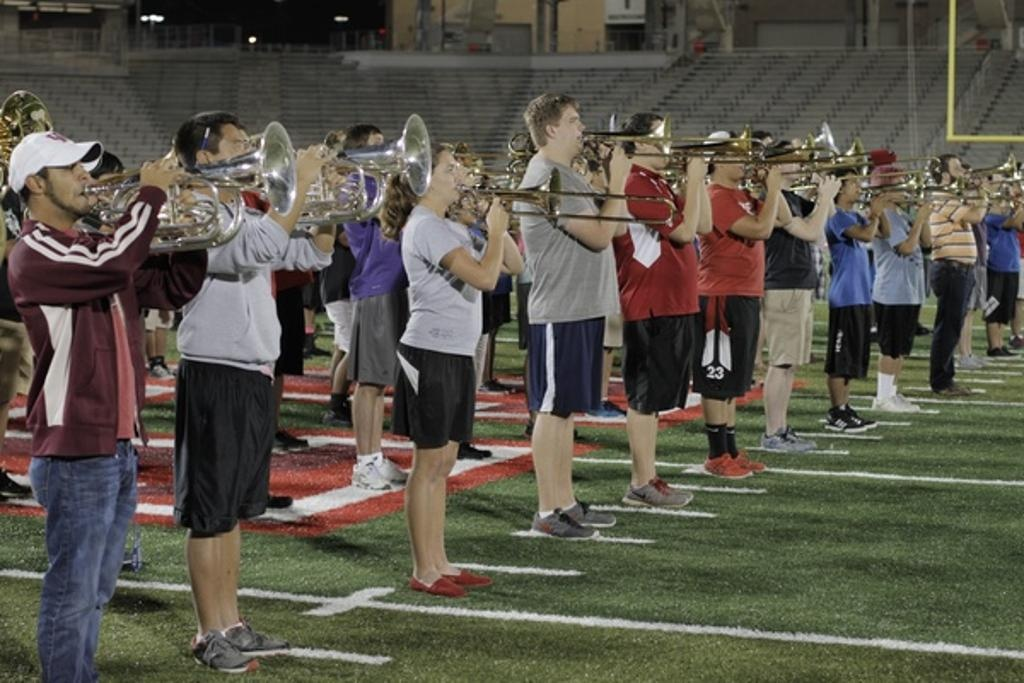human_face: (48, 157, 90, 215), (210, 124, 248, 181), (556, 105, 586, 155), (431, 154, 461, 200), (646, 122, 670, 166), (720, 141, 744, 177), (97, 164, 121, 198), (780, 146, 800, 180), (842, 173, 860, 200), (890, 172, 906, 202), (948, 157, 966, 183), (366, 132, 384, 158), (1000, 194, 1010, 211)
